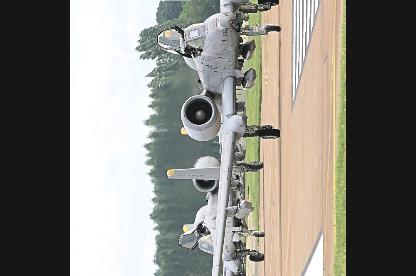A10: (155, 0, 282, 275), (177, 113, 266, 275)
